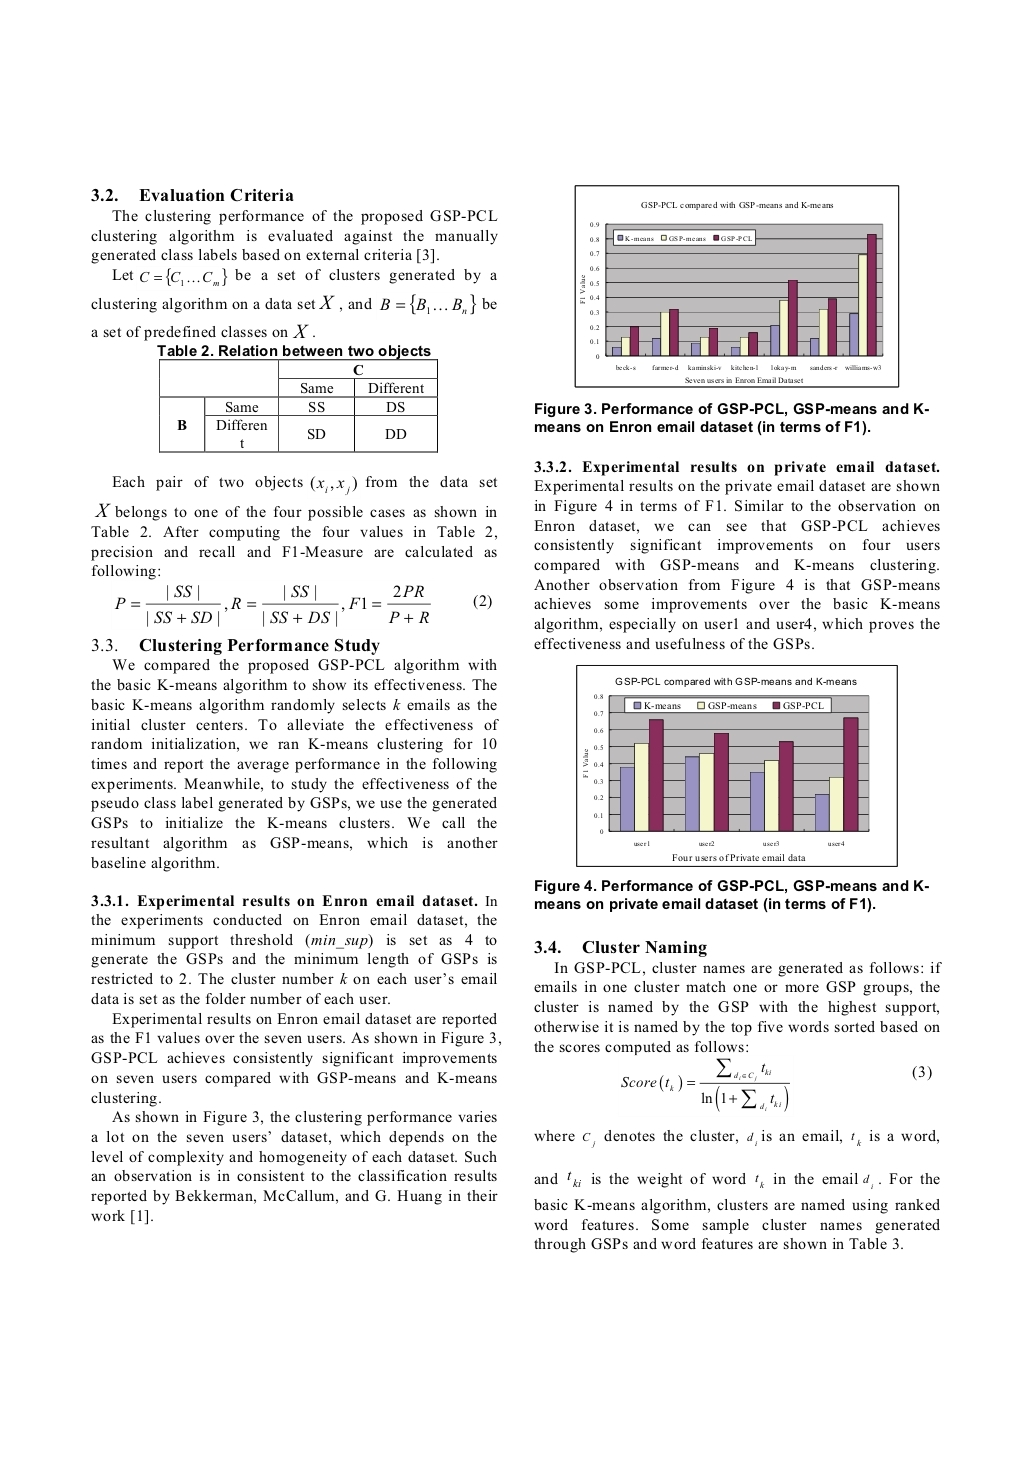Table: (157, 344, 437, 453)
figure: (574, 184, 899, 388), (576, 664, 897, 867)
formula: (622, 1059, 931, 1111), (114, 584, 491, 627)
